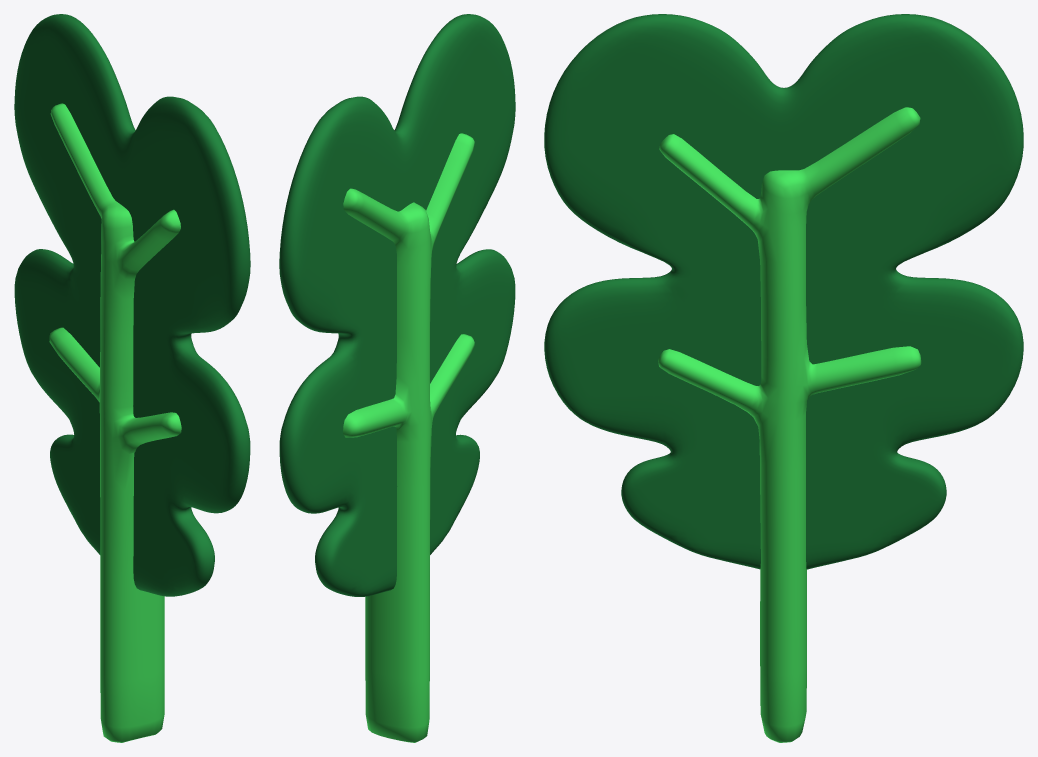
The model's file is carrot_2.fbx.
The picture shows the model from 3 angles, left to right: view 1: azimuth 30°, elevation 25°; view 2: azimuth 150°, elevation 25°; view 3: azimuth 270°, elevation 25°; orthographic projection. The views are drawn at different scales.
Visible parts, largest first — view 1: Panhead; view 2: Panhead; view 3: Panhead.
Part boxes in pixels (left/top/right/bottom): Panhead: left=14, top=14, right=250, bottom=742; Panhead: left=279, top=14, right=515, bottom=742; Panhead: left=544, top=14, right=1023, bottom=742.
Bounding box in the file's own units: 3.41 × 36.65 × 22.22.
